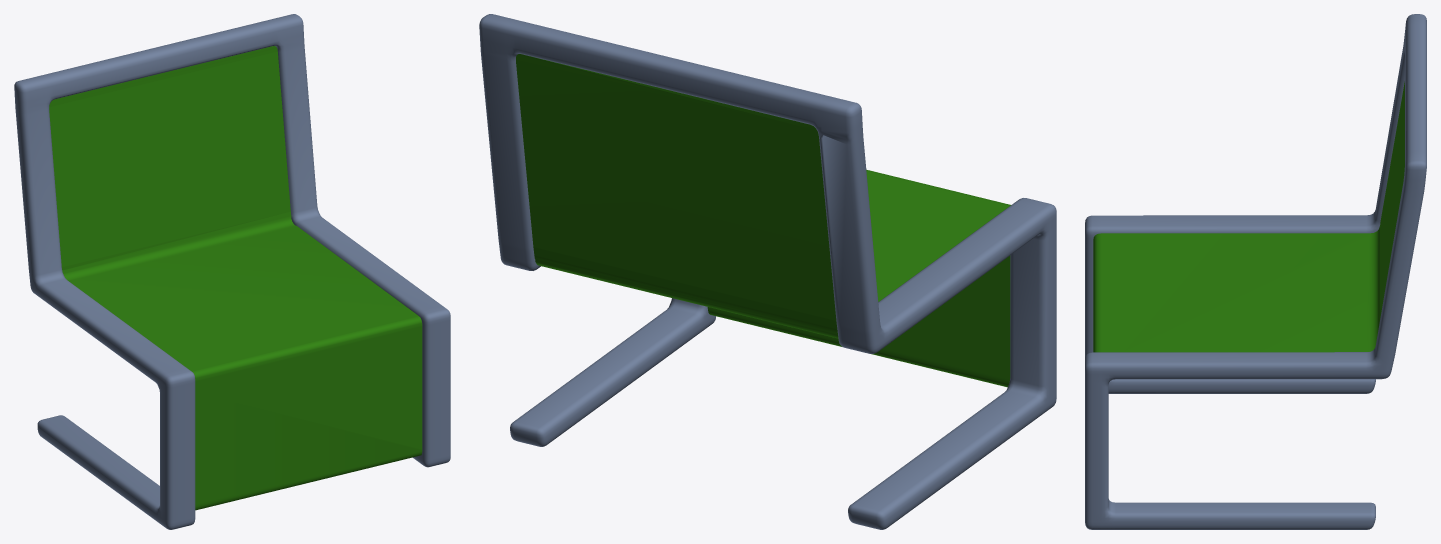
File: Silla.fbx
The picture shows the model from 3 angles, left to right: view 1: azimuth 30°, elevation 25°; view 2: azimuth 150°, elevation 25°; view 3: azimuth 270°, elevation 25°; orthographic projection. The views are drawn at different scales.
Parts seen in each view (by area): view 1: Box023; view 2: Box023; view 3: Box023.
Part boxes in pixels (<box>): Box023: <box>14,14,450,529</box>; Box023: <box>479,14,1056,529</box>; Box023: <box>1085,14,1426,529</box>.
Bounding box in the file's own units: 0.9621 × 1.09 × 0.9196.
